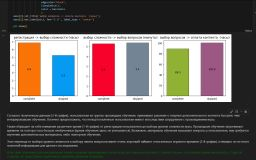

Layout of this report page (visuals, bound fields, positions):
{"tool":"powerbi","page":{"name":"Дашборд","canvas":[1280,1500],"ordinal":1},"visuals":[{"type":"pivotTable","fields":{"Rows":["Данные по месяцам (2).Группа показателей","Данные по месяцам (2).Название показателя"],"Values":["Данные по месяцам.Июль17","Данные по месяцам.Июль18","Данные по месяцам.Изм., руб.","Данные по месяцам.Изм., %"]},"box":[0,108.2,780,569.1],"z":0},{"type":"textbox","box":[0,0,1280,76.2],"z":1000},{"type":"textbox","box":[780,102.2,500,46.2],"z":2000},{"type":"multiRowCard","title":"Финансовый результат:","fields":{"Values":["Данные по месяцам.Июль17","Данные по месяцам.Июль18"]},"box":[780,153.9,500,143.8],"z":3000},{"type":"multiRowCard","title":"Динамика финансового результата:","fields":{"Values":["Данные по месяцам.Изм., руб.","Данные по месяцам.Изм., %"]},"box":[780,297.6,500,160],"z":4000},{"type":"waterfallChart","title":"Финансовые показатели за июль''17","fields":{"Y":["Данные по месяцам.Июль17"],"Category":["Данные по месяцам.Группа показателей","Данные по месяцам.Название показателя"]},"box":[0,696.4,1280,400],"z":5000},{"type":"textbox","box":[780,603.9,422,67],"z":6000},{"type":"shape","box":[1202,603.9,55,74],"z":7000},{"type":"waterfallChart","title":"Финансовые показатели за июль''18","fields":{"Y":["Данные по месяцам.Июль18"],"Category":["Данные по месяцам.Группа показателей","Данные по месяцам.Название показателя"]},"box":[0,1096.4,1280,400],"z":8000},{"type":"shape","box":[22,68,1236,21],"z":9000}]}

Visuals, with their boxes on the page's 1280x1500 design canvas (x1, y1, x2, y2). These are canvas units, not pixel positions in the 256x160 screenshot, which may show the page scaled, cropped or inside an application window:
pivotTable - Данные по месяцам (2).Группа показателей x Данные по месяцам (2).Название показателя: {"left": 0, "top": 108, "right": 780, "bottom": 677}
textbox: {"left": 0, "top": 0, "right": 1280, "bottom": 76}
textbox: {"left": 780, "top": 102, "right": 1280, "bottom": 148}
"Финансовый результат:" multiRowCard: {"left": 780, "top": 154, "right": 1280, "bottom": 298}
"Динамика финансового результата:" multiRowCard: {"left": 780, "top": 298, "right": 1280, "bottom": 458}
"Финансовые показатели за июль''17" waterfallChart: {"left": 0, "top": 696, "right": 1280, "bottom": 1096}
textbox: {"left": 780, "top": 604, "right": 1202, "bottom": 671}
shape: {"left": 1202, "top": 604, "right": 1257, "bottom": 678}
"Финансовые показатели за июль''18" waterfallChart: {"left": 0, "top": 1096, "right": 1280, "bottom": 1496}
shape: {"left": 22, "top": 68, "right": 1258, "bottom": 89}
